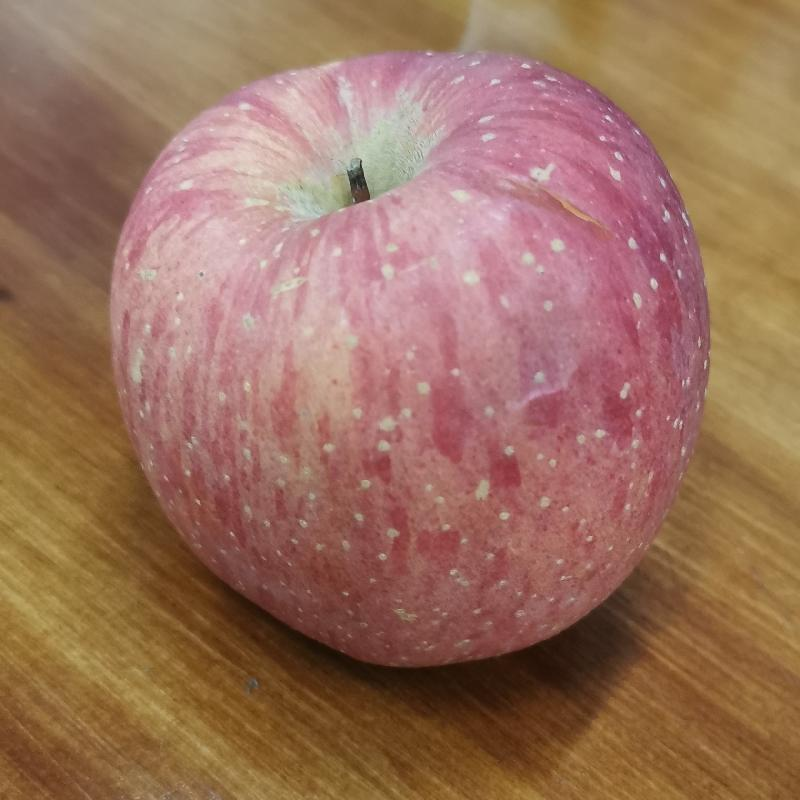apples: (105, 45, 714, 672)
